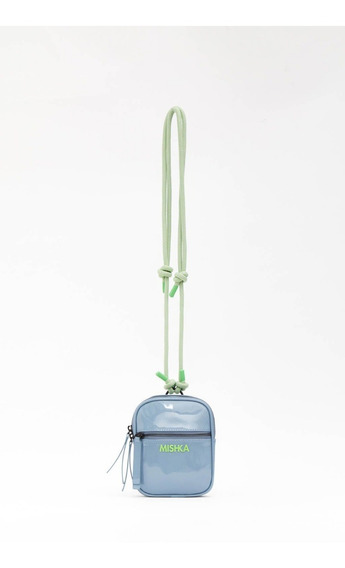cartera: (114, 105, 217, 499)
